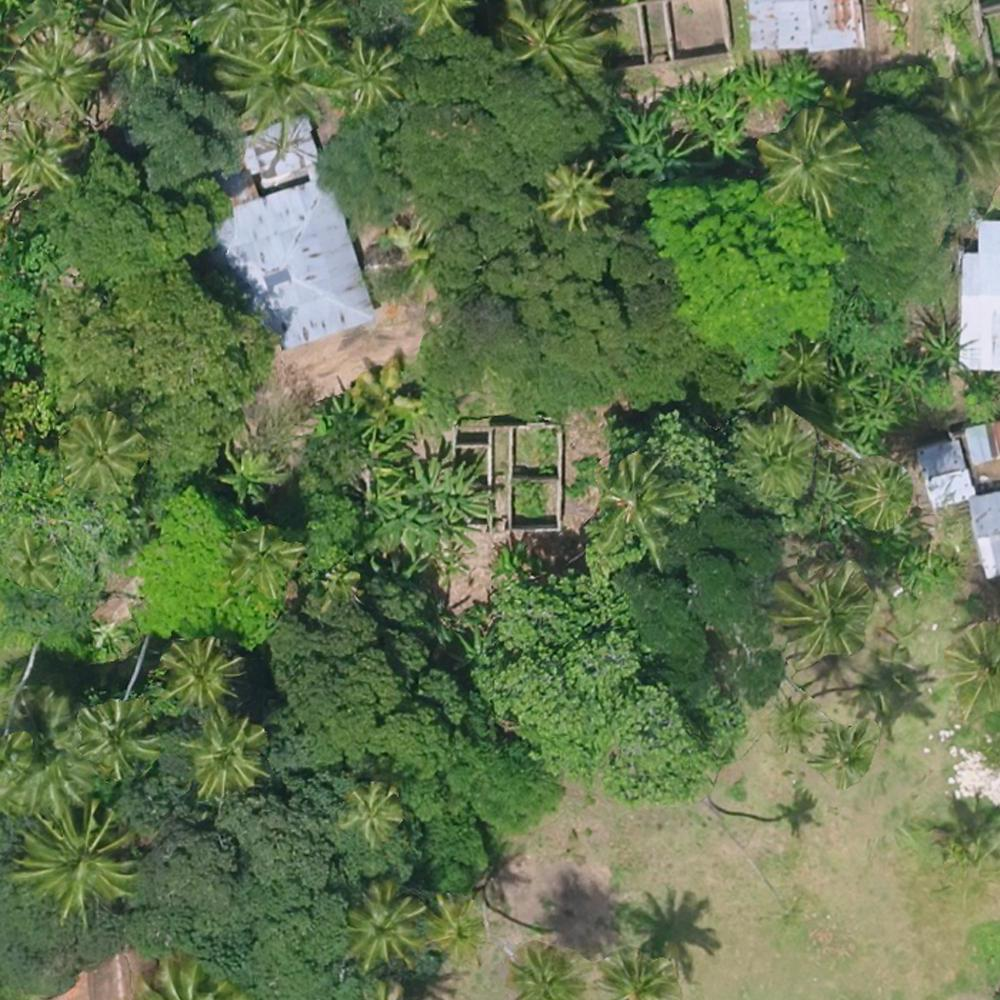Palm: (12, 797, 130, 914), (759, 107, 859, 205), (593, 457, 682, 550), (103, 1, 193, 85), (776, 576, 867, 659), (9, 27, 96, 112), (60, 411, 142, 498), (240, 1, 343, 66), (345, 886, 426, 966), (75, 700, 157, 775), (2, 119, 76, 198), (188, 716, 263, 792), (738, 417, 812, 494), (164, 638, 237, 705), (335, 39, 405, 108), (540, 161, 612, 227), (844, 461, 909, 526), (432, 896, 491, 967), (602, 947, 680, 1000), (337, 783, 404, 844), (813, 721, 877, 783), (228, 527, 290, 590), (505, 945, 575, 1000)
